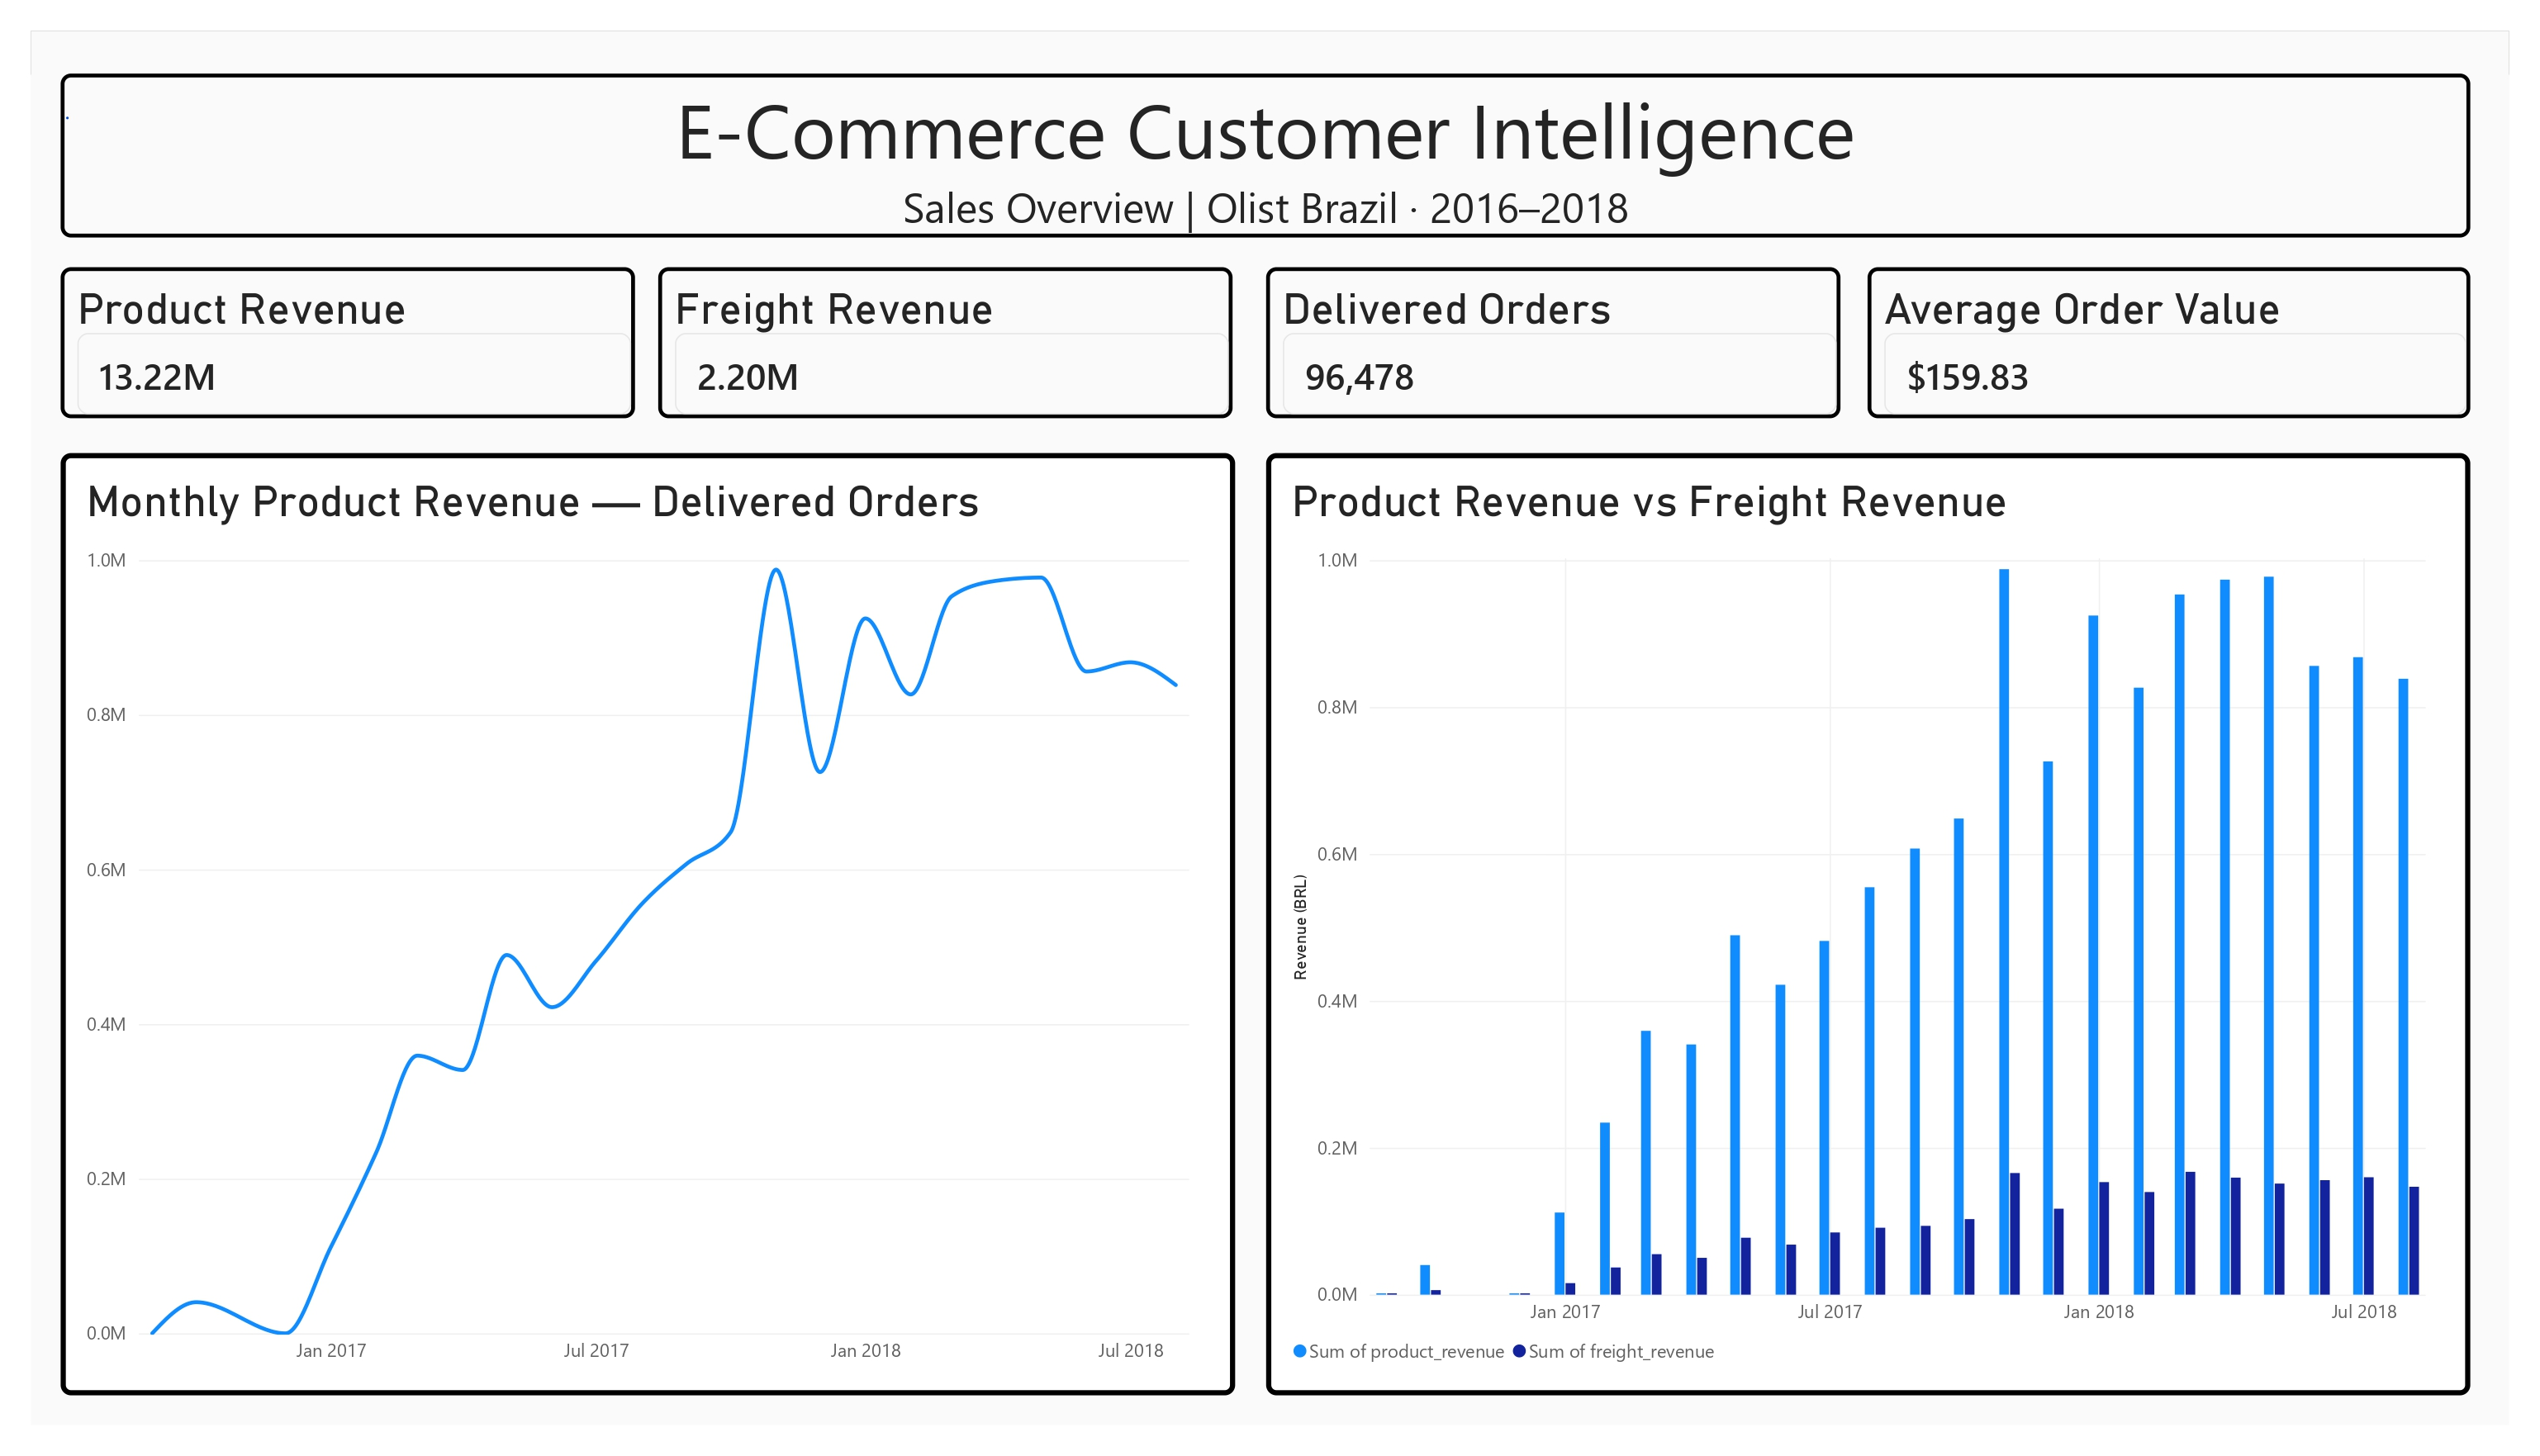

What the dashboard file says about the page in this screenshot:
{"tool":"powerbi","page":{"name":"Sales Overview","canvas":[1920,1080],"ordinal":0},"visuals":[{"type":"lineChart","title":"Monthly Product Revenue — Delivered Orders","fields":{"Category":["monthly_sales.sales_month"],"Y":["Sum(monthly_sales.product_revenue)"]},"box":[23.3,326.7,910,730],"z":0},{"type":"cardVisual","title":"Product Revenue","fields":{"Data":["Sum(monthly_sales.product_revenue)"]},"box":[23.3,183.3,445,116.7],"z":1000},{"type":"textbox","box":[23.3,33.3,1866.7,126.7],"z":2000},{"type":"cardVisual","title":"Freight Revenue","fields":{"Data":["Sum(monthly_sales.freight_revenue)"]},"box":[485.7,182.9,445,116.7],"z":3000},{"type":"cardVisual","title":"Delivered Orders","fields":{"Data":["customer_rfm_segments.Delivered Orders Display"]},"box":[957.1,182.9,445,116.7],"z":4000},{"type":"cardVisual","title":"Average Order Value","fields":{"Data":["customer_rfm_segments.Average Order Value"]},"box":[1423.3,183.3,466.7,116.7],"z":5000},{"type":"clusteredColumnChart","title":"Product Revenue vs Freight Revenue","fields":{"Category":["monthly_sales.sales_month"],"Y":["Sum(monthly_sales.product_revenue)","Sum(monthly_sales.freight_revenue)"]},"box":[956.7,326.7,933.3,730],"z":6000}]}

Visuals, with their boxes in screenshot pixels (x1, y1, x2, y2):
"Monthly Product Revenue — Delivered Orders" lineChart: BBox(44, 446, 1231, 1398)
"Product Revenue" cardVisual: BBox(44, 259, 624, 411)
textbox: BBox(44, 64, 2479, 229)
"Freight Revenue" cardVisual: BBox(647, 258, 1227, 410)
"Delivered Orders" cardVisual: BBox(1262, 258, 1843, 410)
"Average Order Value" cardVisual: BBox(1870, 259, 2479, 411)
"Product Revenue vs Freight Revenue" clusteredColumnChart: BBox(1261, 446, 2479, 1398)
